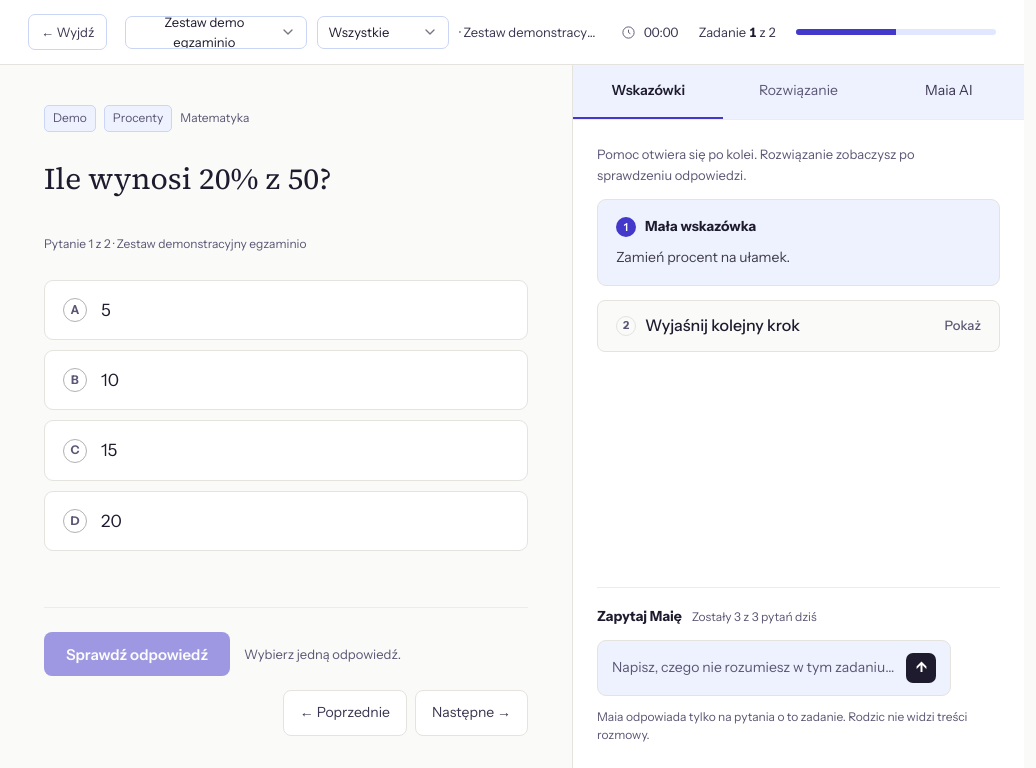
Test case: StudentPractice focus mode › protects a draft before changing questions or leaving the page
Click the radio button labelled "B 10" at (75, 380), box [44,350,528,410]
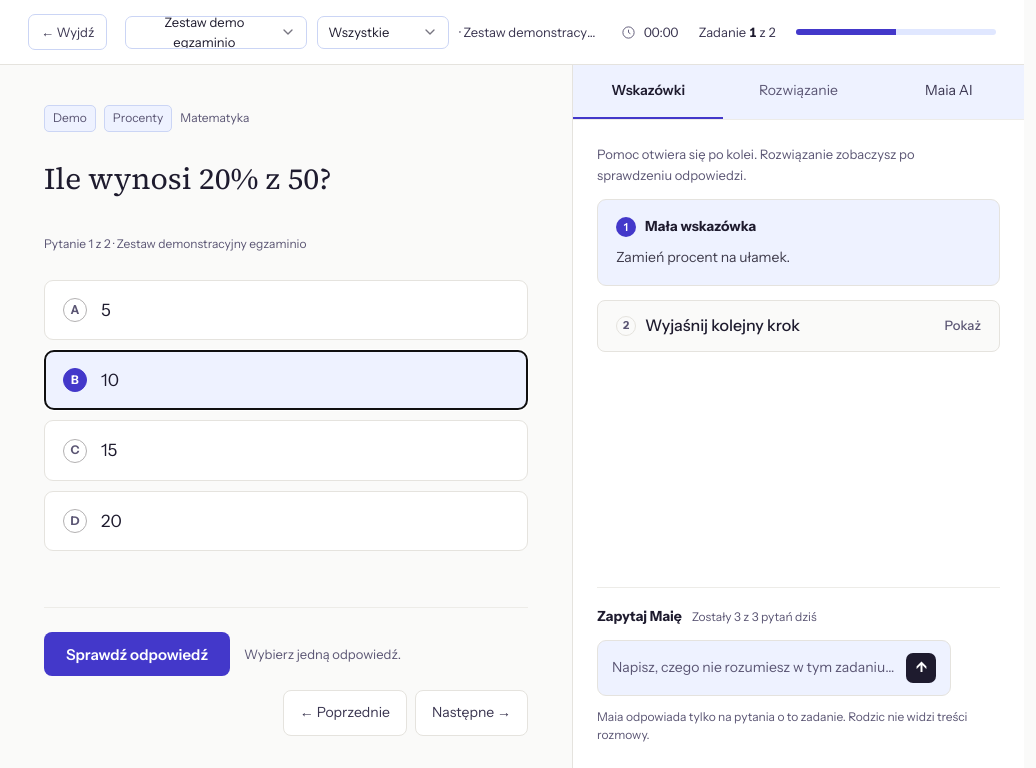
Click the button with aria-label "Następne pytanie" at (471, 713), box [415,690,528,736]
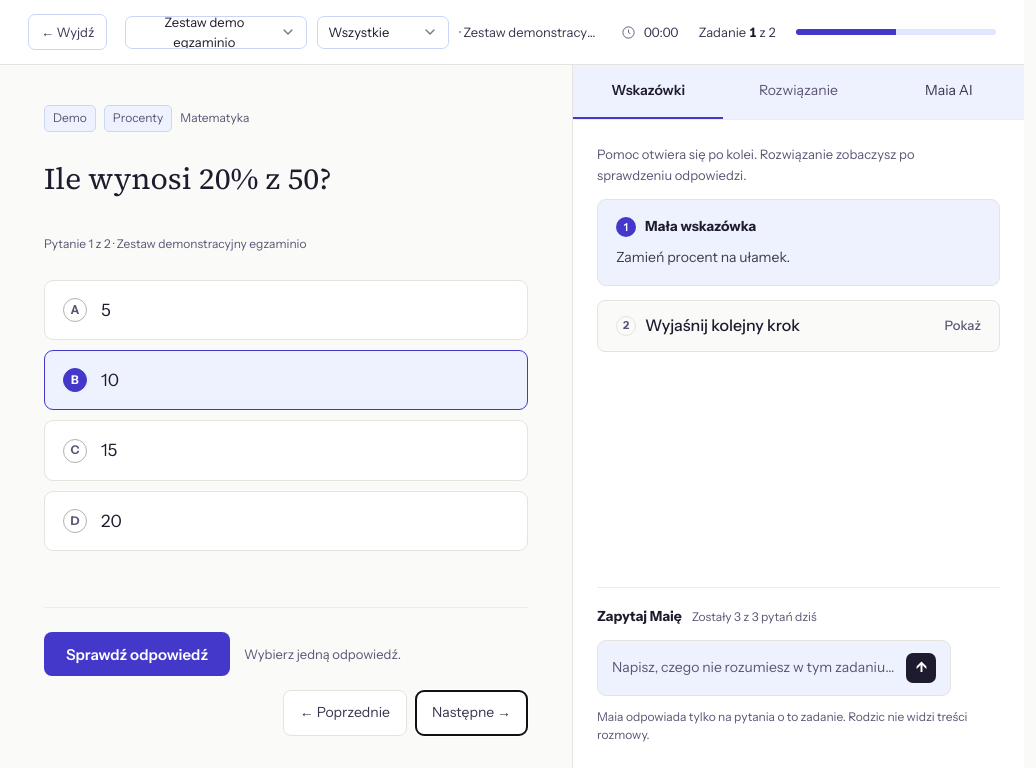
expect the heading "Ile wynosi 20% z 50?" is shown: met, box [44,158,332,199]
Click the button with aria-label "Zakończ" at (68, 32), box [28,14,107,50]
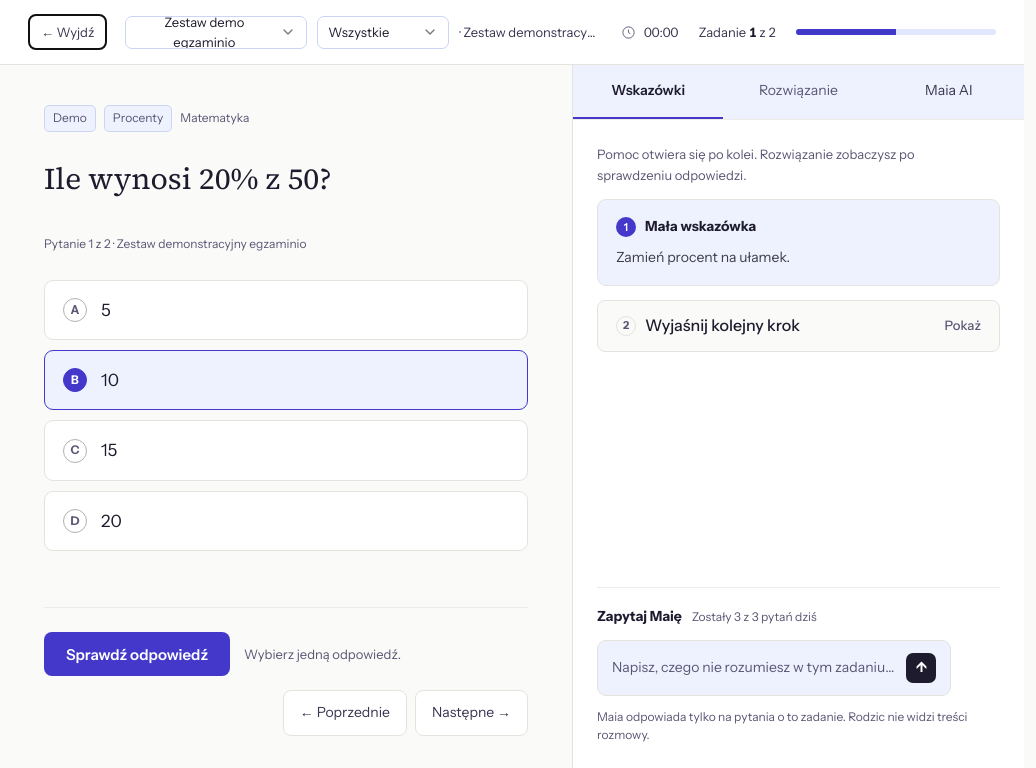
Click the button with aria-label "Następne pytanie" at (471, 713), box [415,690,528,736]
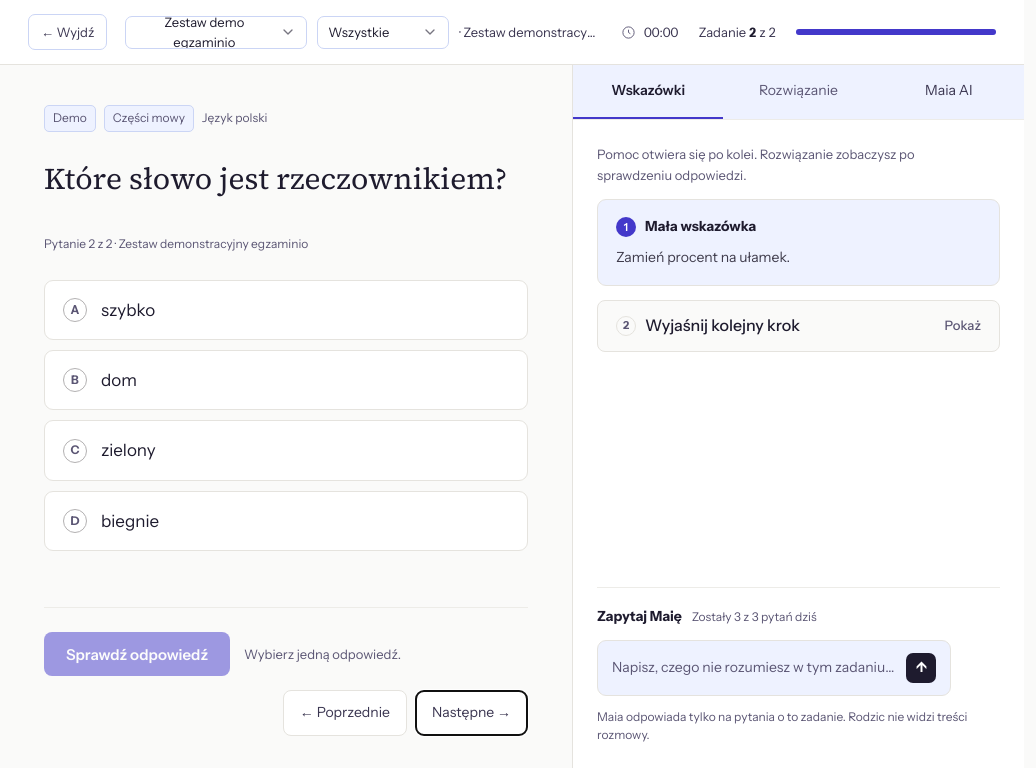
expect the heading "Które słowo jest rzeczownikiem?" is shown: met, box [44,158,528,199]
